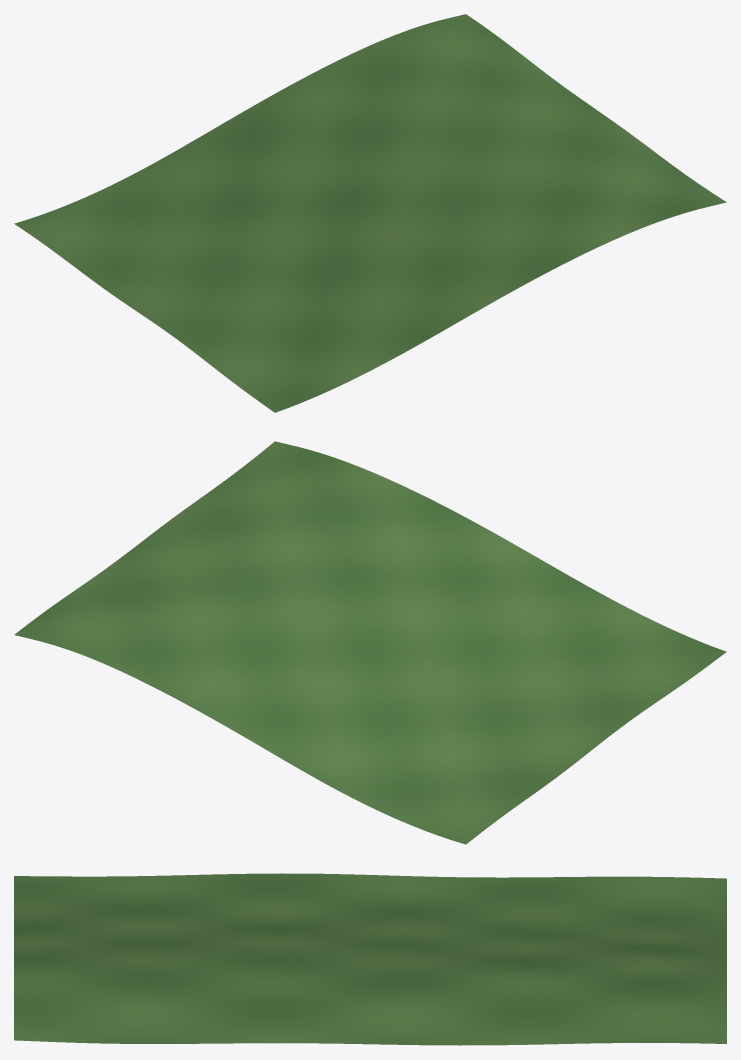
The model's file is chunk_12_7.glb.
3 views of the same model, one above another, from view 1: azimuth 30°, elevation 25°; view 2: azimuth 150°, elevation 25°; view 3: azimuth 270°, elevation 25° (orthographic). The views are drawn at different scales.
Bounding box in the file's own units: 512 × 111 × 512.
